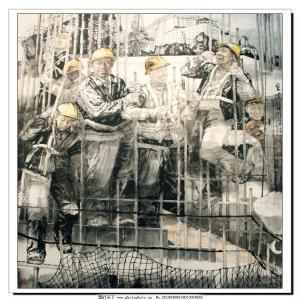yellow: (145, 56, 171, 85), (91, 48, 116, 78), (55, 103, 80, 132), (215, 44, 242, 68), (244, 95, 267, 120), (244, 120, 267, 143), (62, 61, 84, 83), (55, 32, 74, 52)
